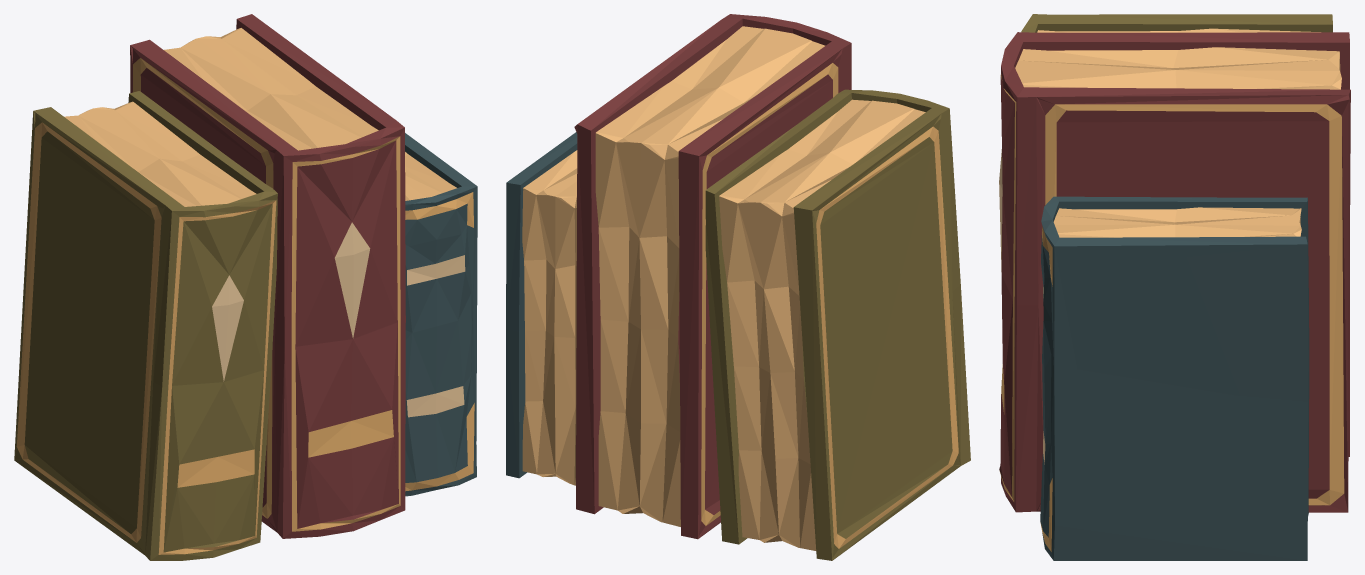
The model's file is Books_005.fbx.
The picture shows the model from 3 angles, left to right: view 1: azimuth 30°, elevation 25°; view 2: azimuth 150°, elevation 25°; view 3: azimuth 270°, elevation 25°; orthographic projection. The views are drawn at different scales.
Parts seen in each view (by area): view 1: Books_005; view 2: Books_005; view 3: Books_005.
Part boxes in pixels (x1,y1,x2,y2): Books_005: (14, 14, 477, 560); Books_005: (506, 14, 970, 560); Books_005: (999, 14, 1350, 560).
Bounding box in the file's own units: 0.2889 × 0.3176 × 0.2403.
